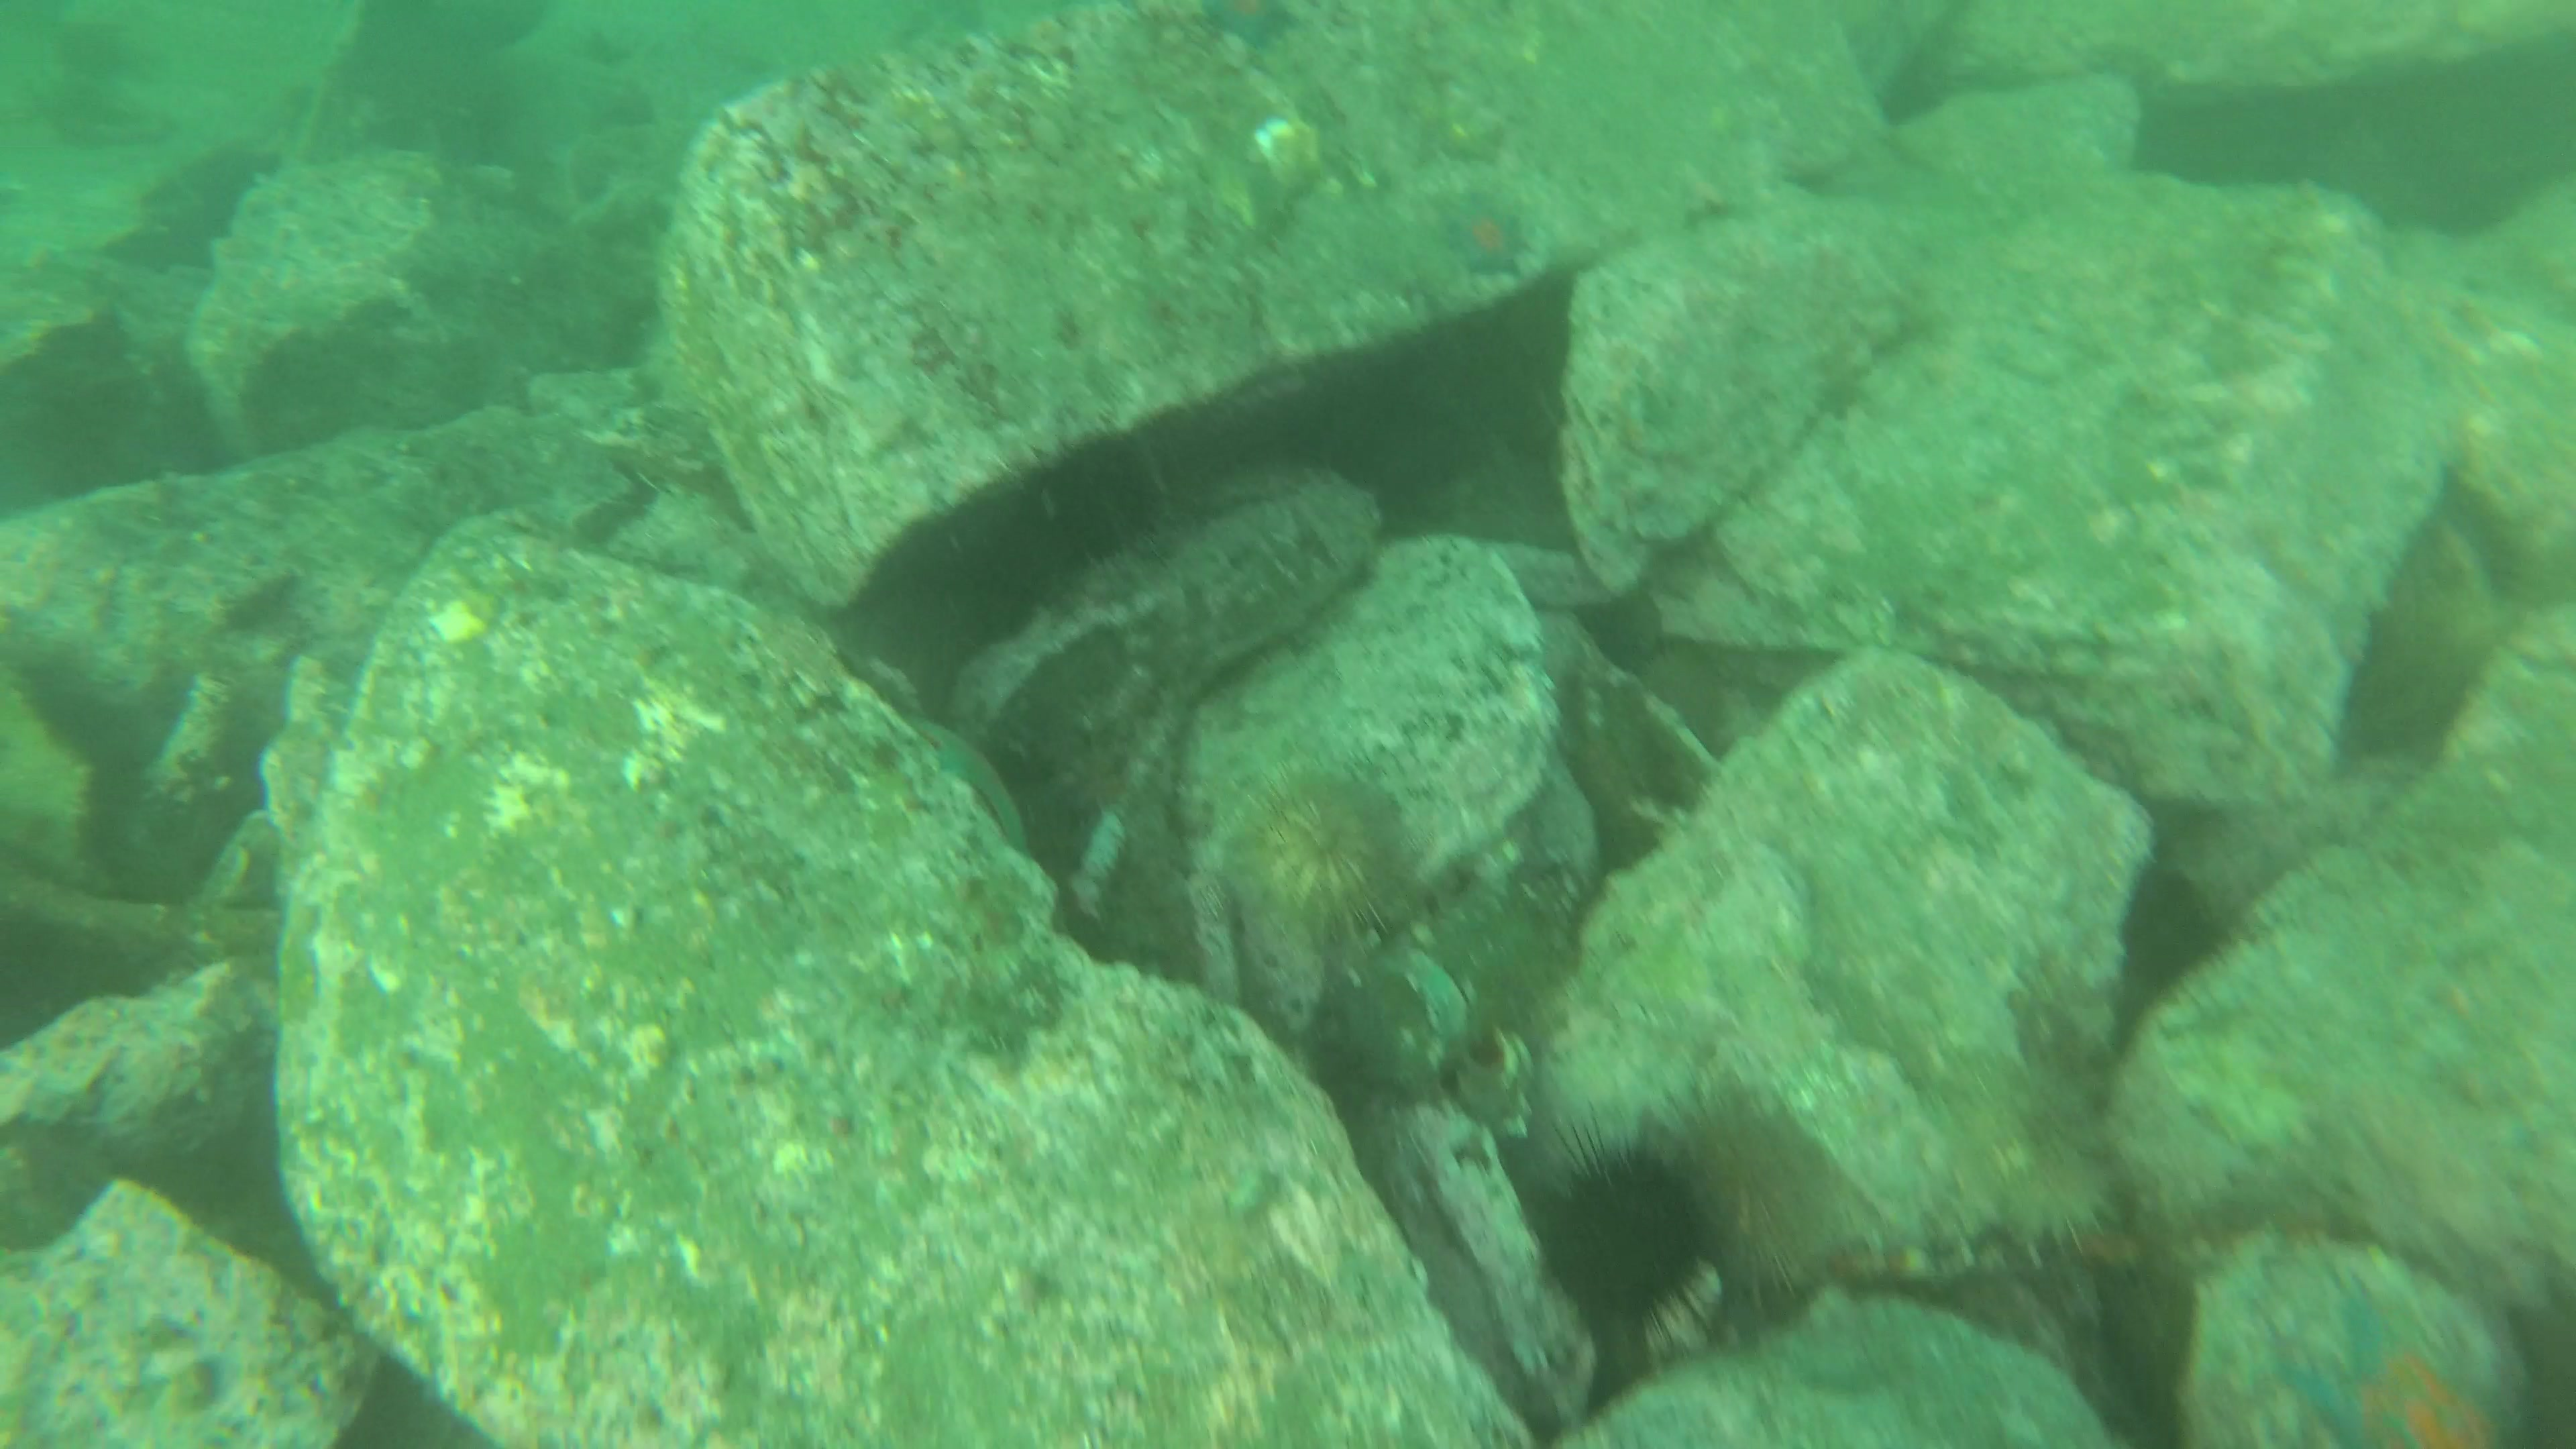echinus: (1520, 1109, 1729, 1350), (1927, 1049, 2121, 1263), (1237, 771, 1407, 934), (1690, 1113, 1829, 1299)
starfish: (2289, 1288, 2521, 1449), (1435, 184, 1530, 283)
